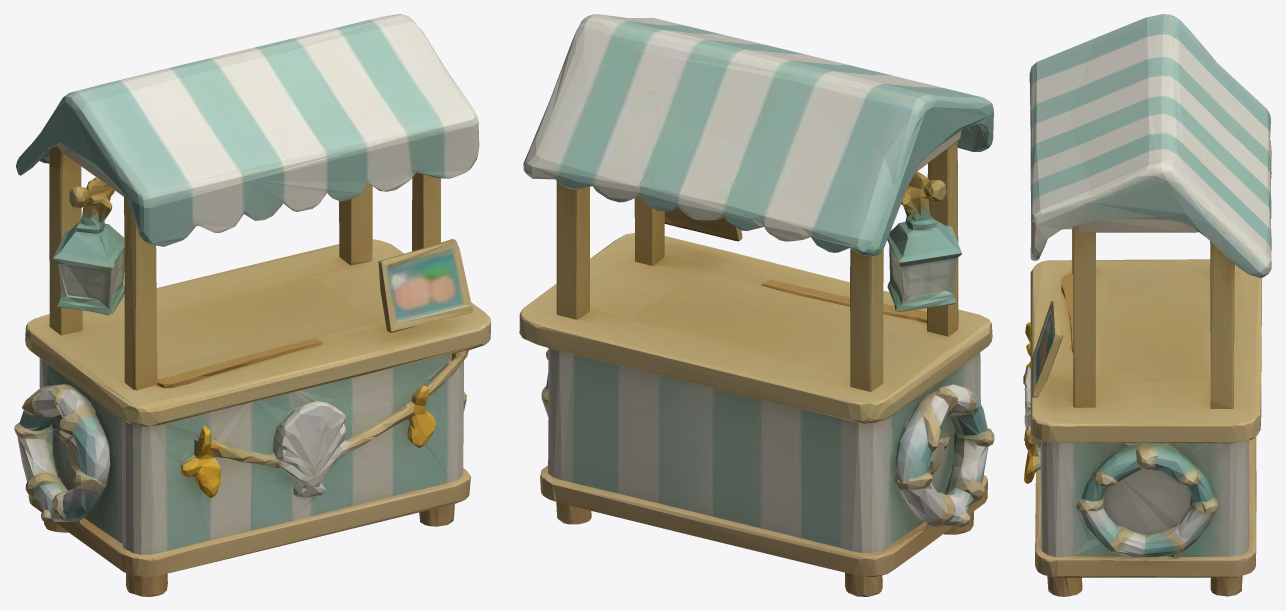
File: cafe_stall.glb
The picture shows the model from 3 angles, left to right: view 1: azimuth 30°, elevation 25°; view 2: azimuth 150°, elevation 25°; view 3: azimuth 270°, elevation 25°; orthographic projection. The views are drawn at different scales.
Visible parts, largest first — view 1: geometry_0; view 2: geometry_0; view 3: geometry_0.
Boxes of the visible parts, x1,y1,x2,y2 form: geometry_0: (14,14,490,596); geometry_0: (519,14,994,596); geometry_0: (1023,14,1271,596).
Bounding box in the file's own units: 0.8966 × 0.9999 × 0.5165.
Materials: 1 (1 with a texture image).
